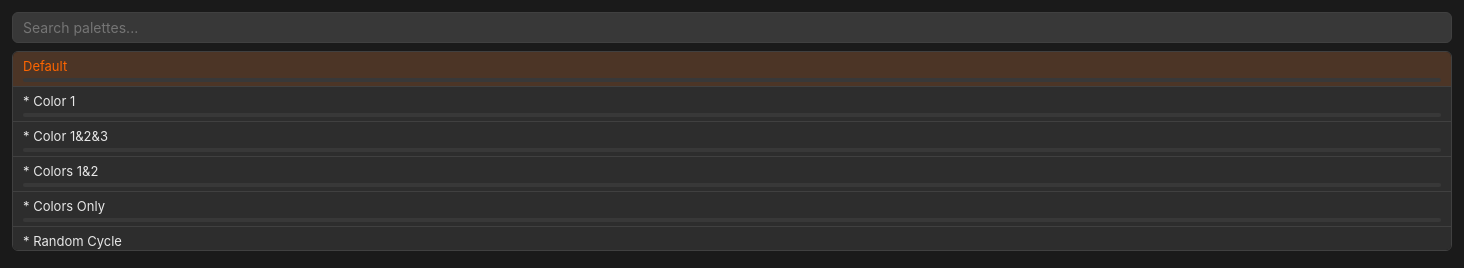
PaletteSelector › renders an empty grid when nothing matches search
The width and height of the screenshot is (1464, 268).
Type "zzz" into the field with placeholder "Search palettes...".
click(732, 28); type("zzz")  # box top-left (12, 12), bottom-right (1452, 43)
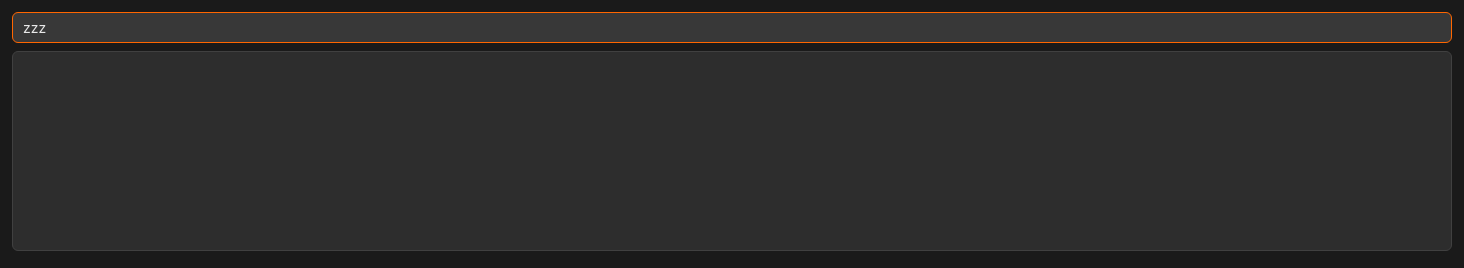
Result: the button "Default" is gone
Result: the button "* Random Cycle" is gone
Result: the button "* Color 1" is gone
